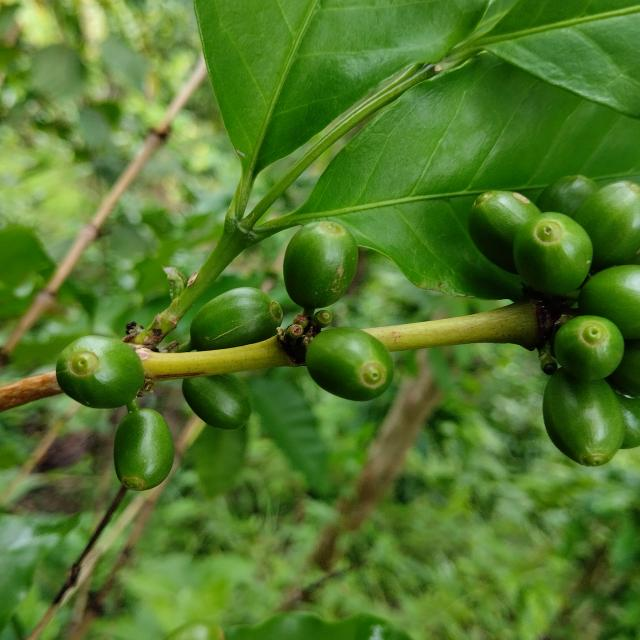green: (544, 369, 626, 467), (514, 212, 594, 296), (283, 221, 358, 309), (306, 327, 394, 401), (55, 336, 144, 409), (469, 190, 541, 274), (190, 287, 283, 351), (575, 181, 640, 271), (113, 400, 174, 491), (555, 316, 625, 381), (579, 265, 640, 339), (182, 374, 251, 430), (537, 174, 599, 218)
